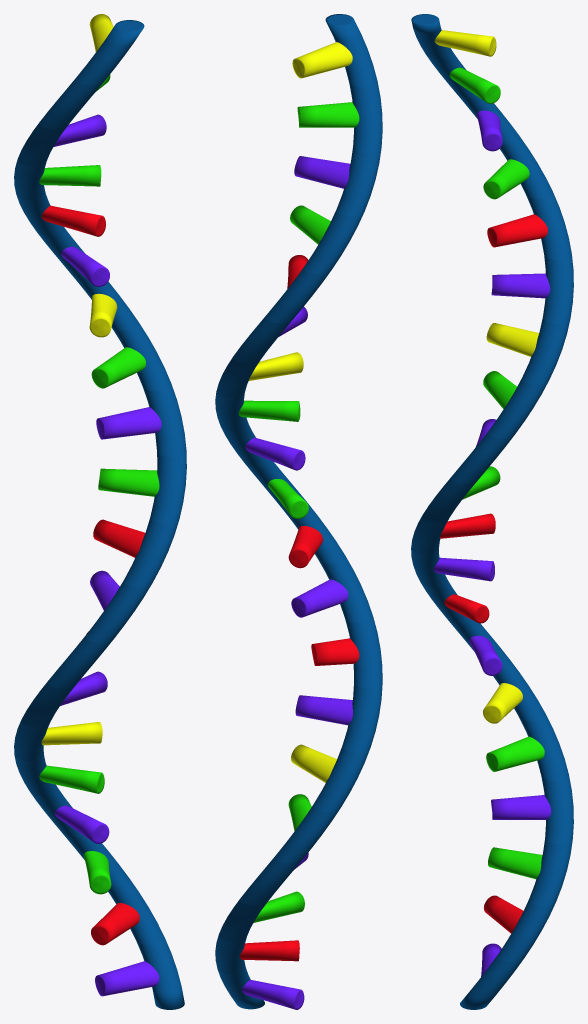
File: RNA.fbx
The picture shows the model from 3 angles, left to right: view 1: azimuth 30°, elevation 25°; view 2: azimuth 150°, elevation 25°; view 3: azimuth 270°, elevation 25°; orthographic projection. The views are drawn at different scales.
Visible parts, largest first — view 1: RNA; view 2: RNA; view 3: RNA.
Boxes of the visible parts, x1,y1,x2,y2 form: RNA: (14, 14, 186, 1009); RNA: (215, 14, 382, 1009); RNA: (411, 14, 573, 1009).
Size of the model in its own units: 619 by 4000 by 619.
